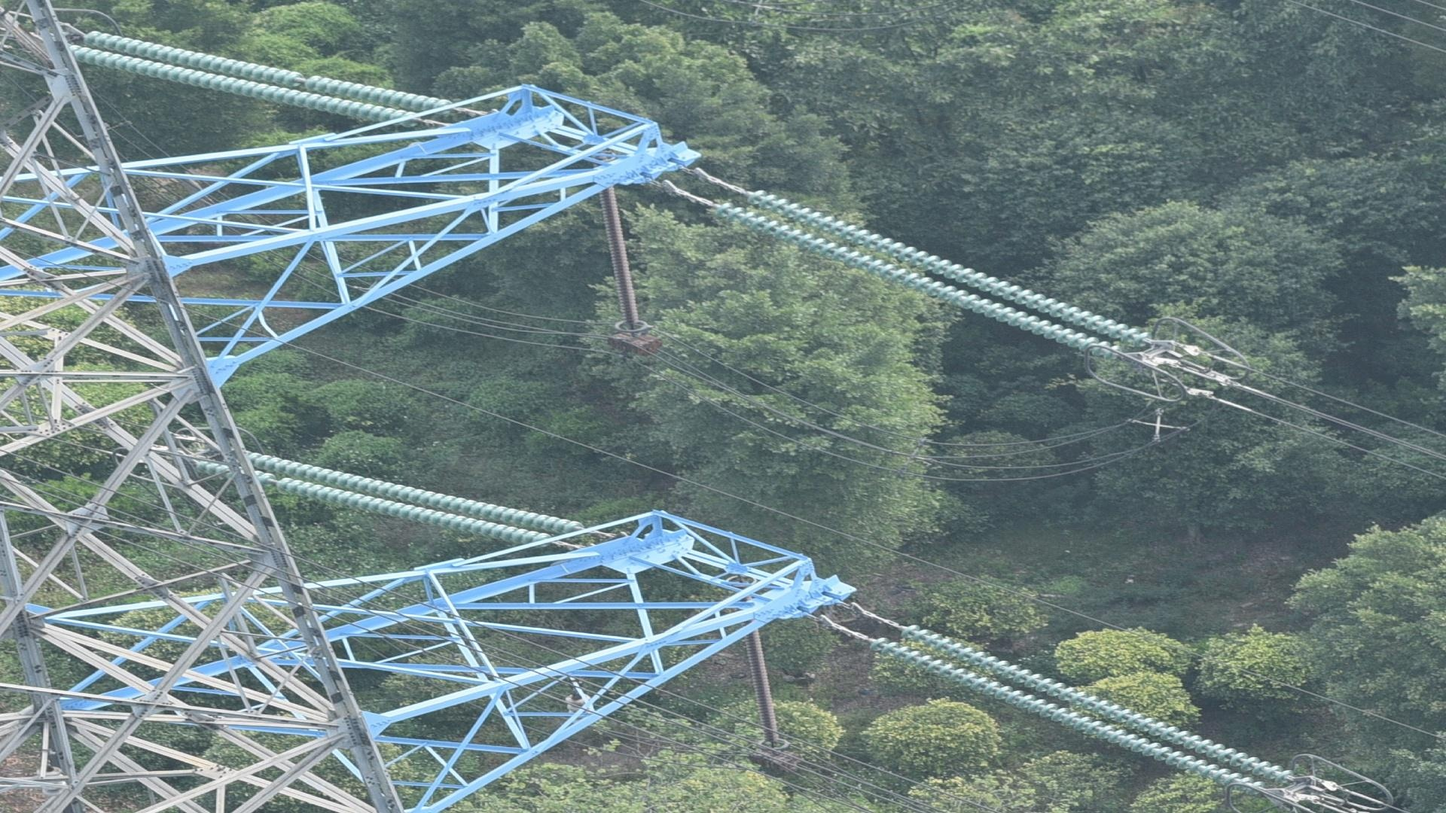insulator: (709, 187, 1155, 364), (867, 622, 1297, 798), (14, 31, 459, 132), (195, 446, 589, 552), (599, 187, 639, 327), (743, 629, 782, 744)
